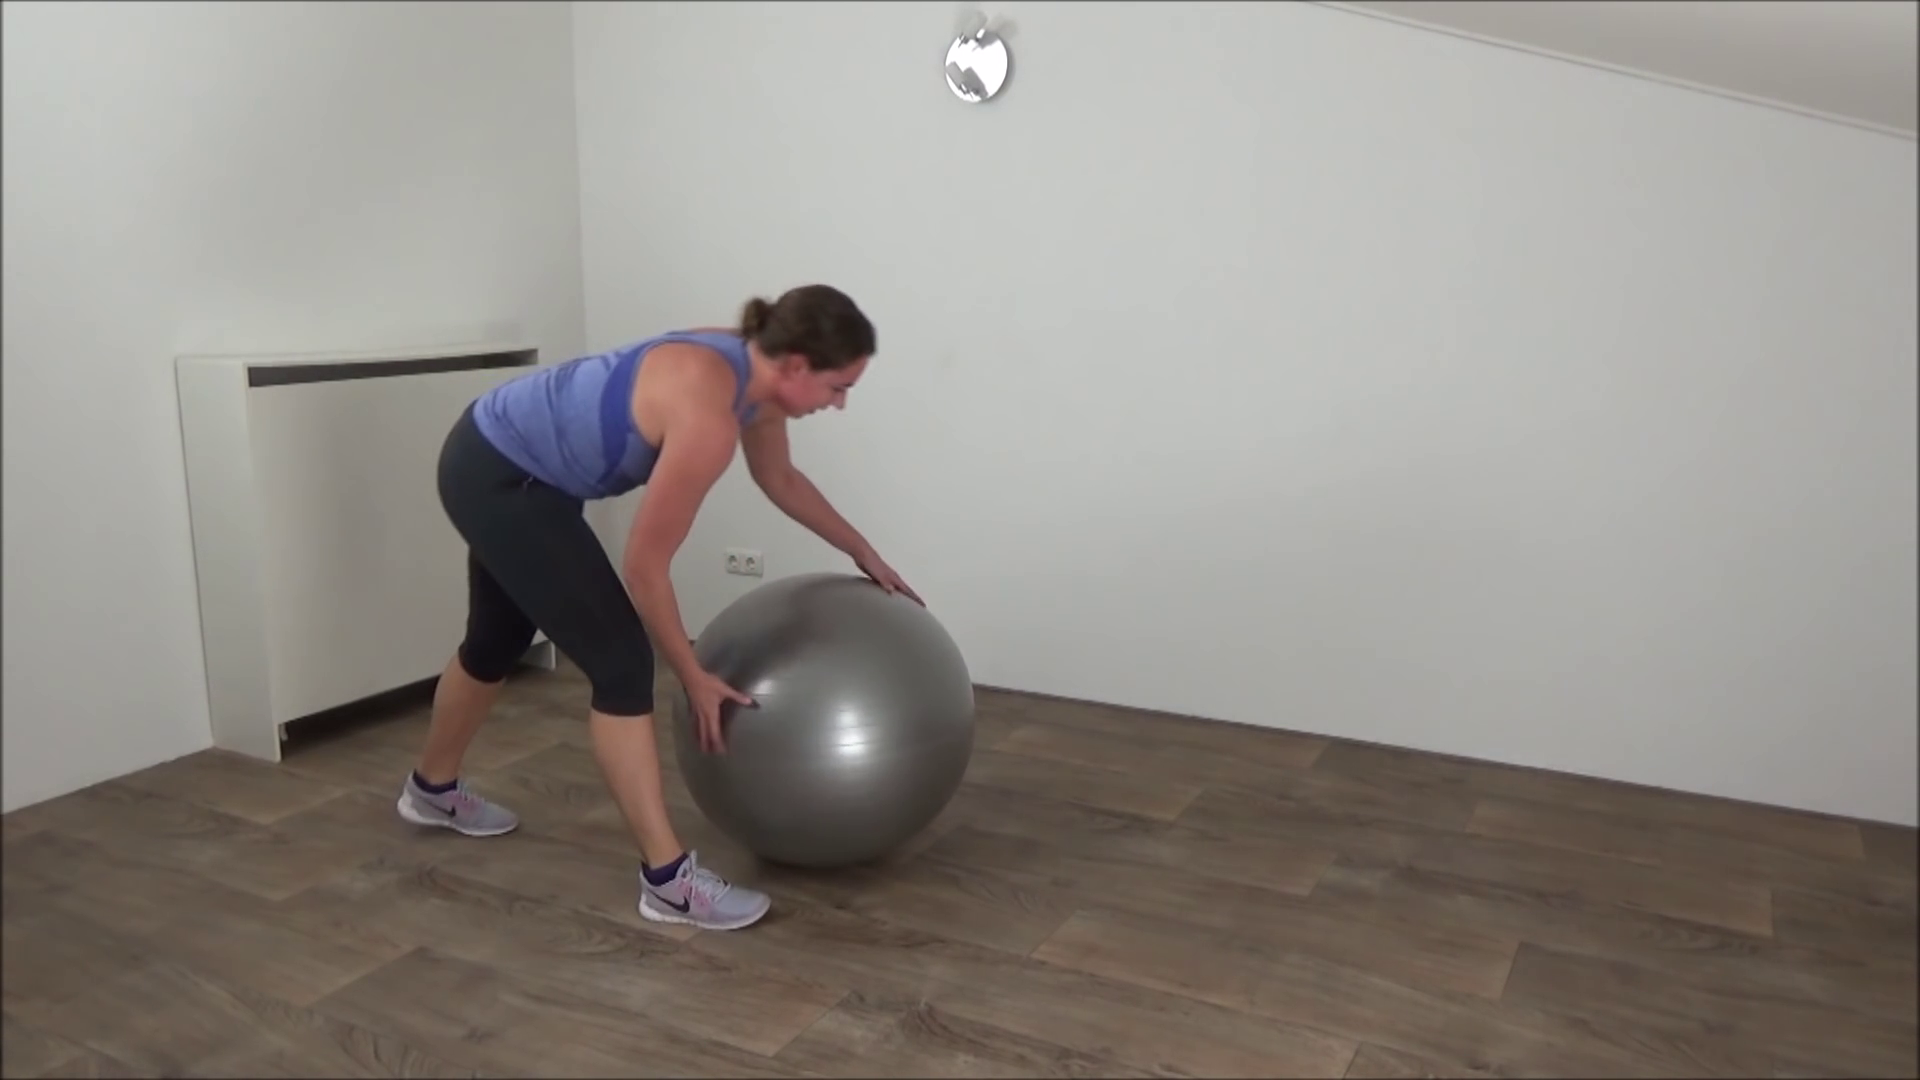yogaball: (665, 564, 984, 887)
